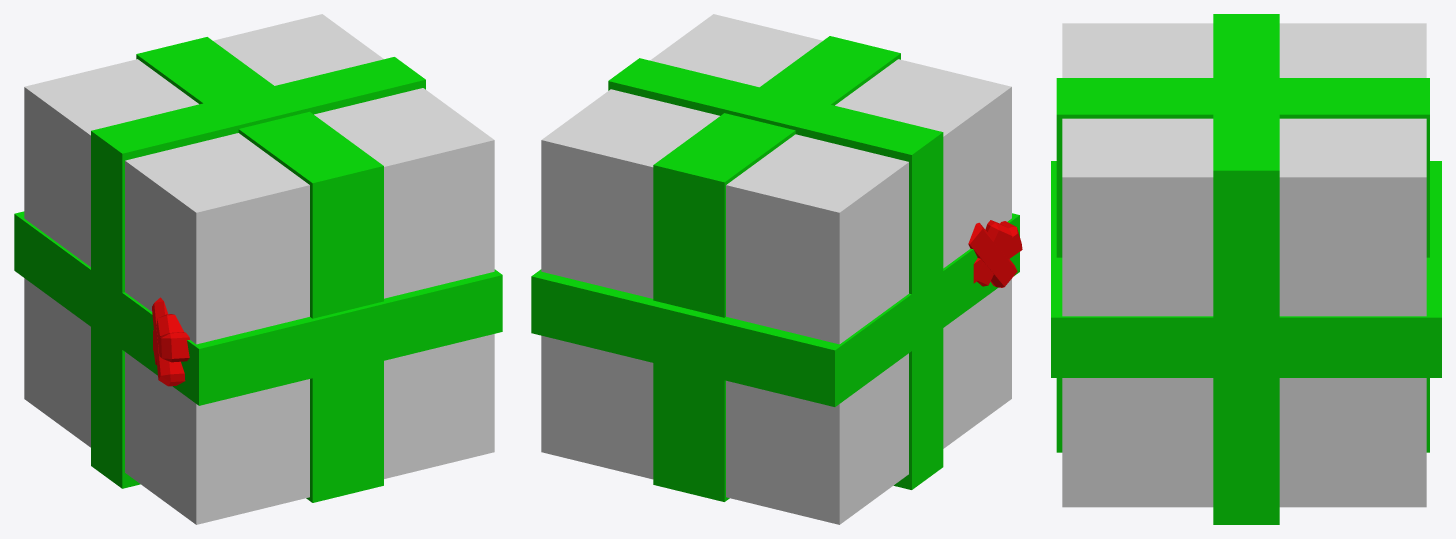
File: BoxMas.fbx
3 views of the same model, side by side, from view 1: azimuth 30°, elevation 25°; view 2: azimuth 150°, elevation 25°; view 3: azimuth 270°, elevation 25° (orthographic). The views are drawn at different scales.
Parts seen in each view (by area): view 1: pCube7, pCube8, pCube10, pCube9, pCube13, pCube11; view 2: pCube7, pCube8, pCube10, pCube9, pCube13, pCube12, pCube11; view 3: pCube7, pCube9, pCube10, pCube8.
Part boxes in pixels (x1=…): pCube7: x1=24, y1=14, x2=494, y2=524; pCube8: x1=136, y1=37, x2=383, y2=502; pCube10: x1=14, y1=211, x2=502, y2=405; pCube9: x1=91, y1=57, x2=425, y2=488; pCube13: x1=152, y1=297, x2=185, y2=386; pCube11: x1=153, y1=330, x2=189, y2=362; pCube7: x1=541, y1=14, x2=1011, y2=524; pCube8: x1=653, y1=36, x2=900, y2=501; pCube10: x1=531, y1=213, x2=1019, y2=406; pCube9: x1=608, y1=58, x2=943, y2=489; pCube13: x1=968, y1=222, x2=1017, y2=287; pCube12: x1=975, y1=220, x2=1012, y2=286; pCube11: x1=973, y1=221, x2=1022, y2=283; pCube7: x1=1062, y1=23, x2=1426, y2=507; pCube9: x1=1213, y1=14, x2=1279, y2=524; pCube10: x1=1051, y1=161, x2=1441, y2=377; pCube8: x1=1056, y1=78, x2=1429, y2=452.
Bounding box in the file's own units: 1.72 × 1.7 × 1.7.
